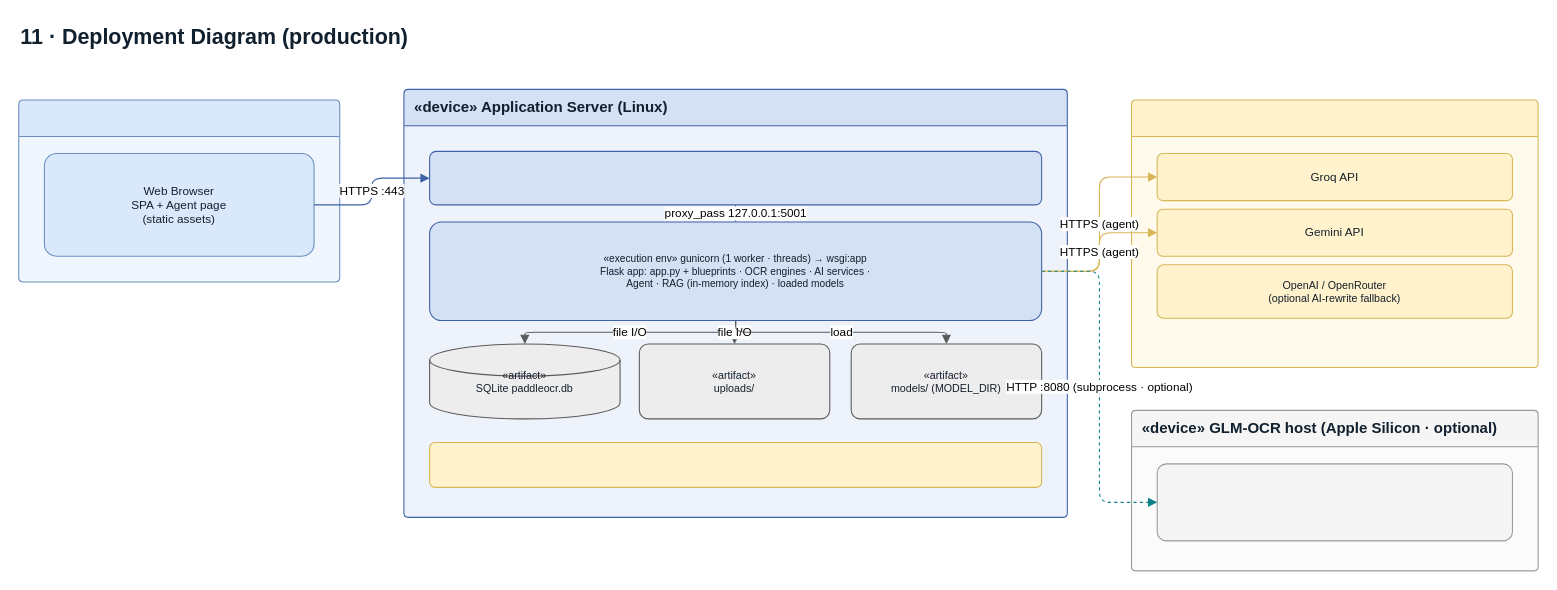
Some shapes in this 1557 by 590 pixel diagram are drawn without their labels. Here are the shapes that lost their labels. From the top down, the box of each, then its label:
(18, 99, 340, 282): «device» Client
(429, 150, 1042, 205): «execution env» nginx — reverse proxy · TLS (:443)
(1130, 99, 1538, 368): «device» External LLM providers (cloud)
(429, 441, 1042, 487): Development: python app.py (Flask dev server) — no nginx / gunicorn
(1156, 463, 1512, 541): MLX server :8080 mlx_vlm.server
